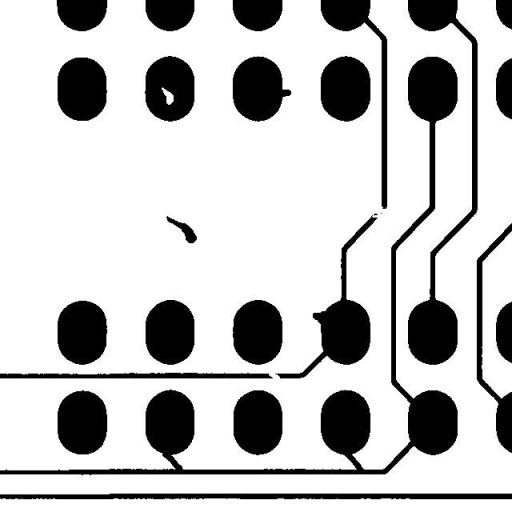copper: (158, 208, 204, 250)
open: (362, 198, 396, 225), (261, 364, 287, 388)
pin-hole: (154, 79, 180, 112)
short: (336, 443, 371, 480), (154, 444, 190, 479)
spur: (305, 303, 333, 331), (270, 80, 298, 106)
